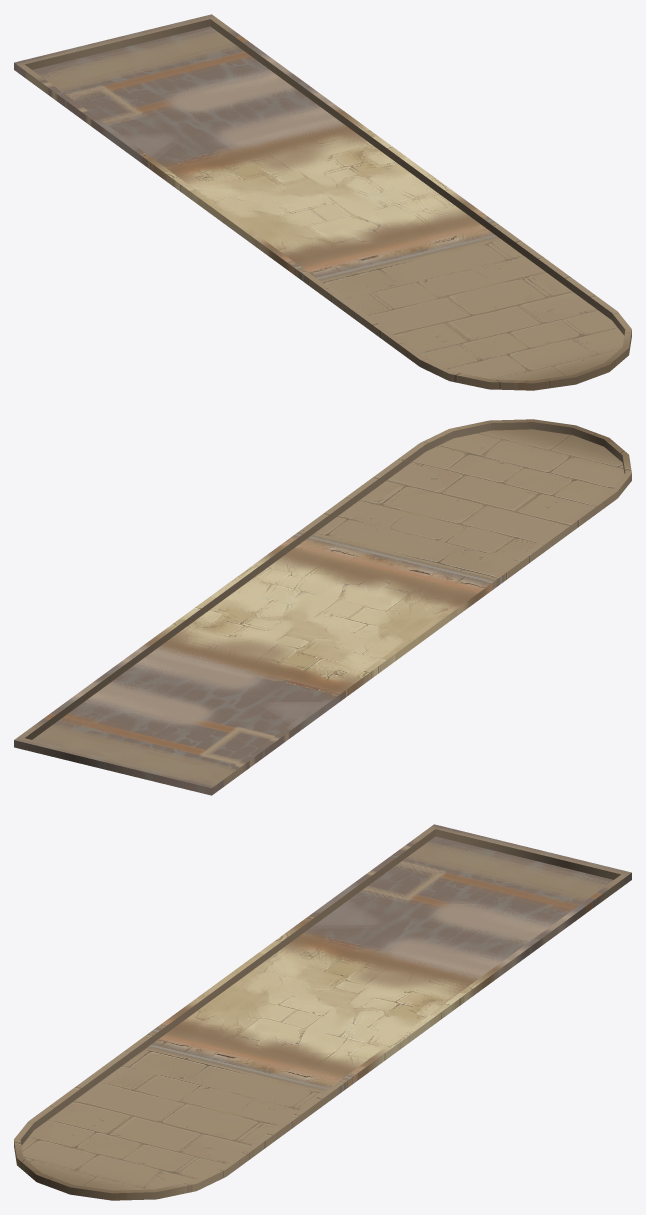
The model's file is Main_1007_obj_06.fbx.
3 views of the same model, one above another, from view 1: azimuth 30°, elevation 25°; view 2: azimuth 150°, elevation 25°; view 3: azimuth 330°, elevation 25° (orthographic).
Visible parts, largest first — view 1: Circle.002; view 2: Circle.002; view 3: Circle.002.
Boxes of the visible parts, x1,y1,x2,y2 form: Circle.002: (14,14,631,390); Circle.002: (14,419,631,795); Circle.002: (14,824,631,1200).
Size of the model in its own units: 164 by 5.84 by 667.
